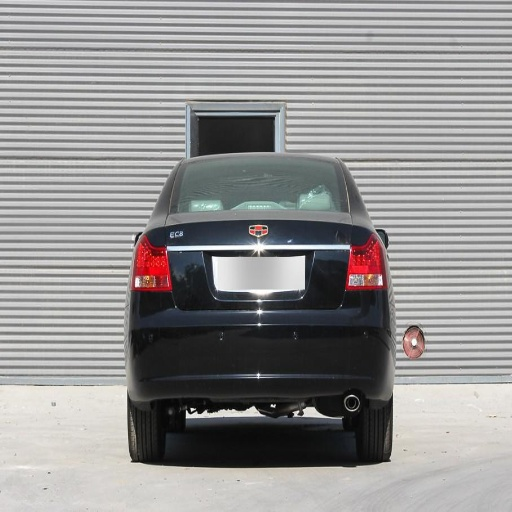back_bumper: (130, 291, 393, 406)
tailgate: (155, 212, 350, 314)
trunk: (136, 225, 369, 368)
